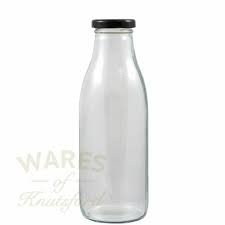bottle: (75, 17, 152, 224)
